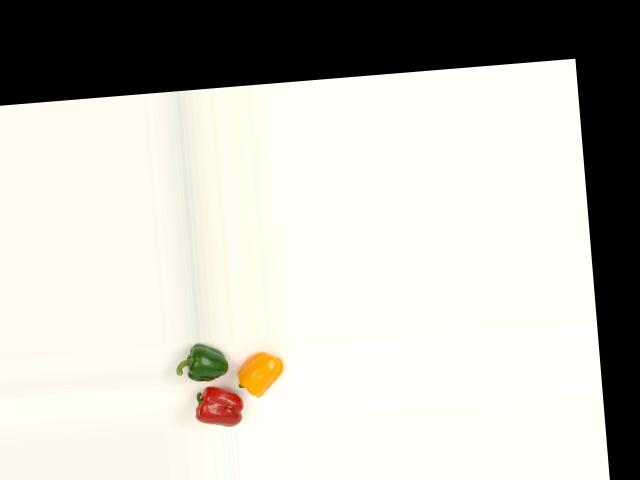bell_pepper: (172, 340, 230, 386)
